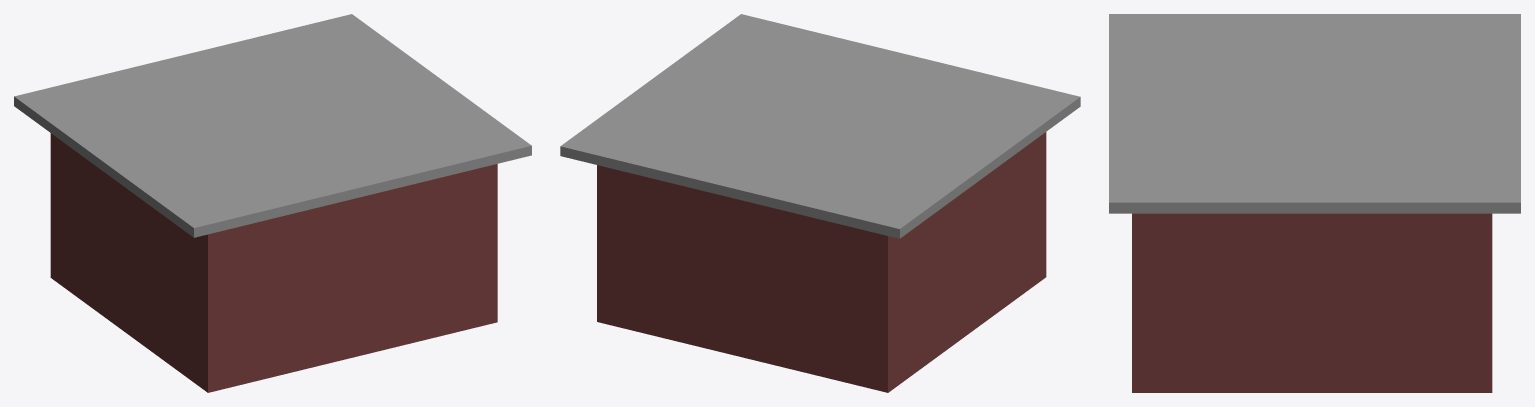
Rendered from House three.fbx.
3 renders of one model, left to right at view 1: azimuth 30°, elevation 25°; view 2: azimuth 150°, elevation 25°; view 3: azimuth 270°, elevation 25°, orthographic. The views are drawn at different scales.
Parts seen in each view (by area): view 1: pCube3; view 2: pCube3; view 3: pCube3.
Boxes of the visible parts, <box> form: pCube3: <box>14,14,531,392</box>; pCube3: <box>560,14,1080,392</box>; pCube3: <box>1109,14,1520,392</box>.
Size of the model in its own units: 1.03 by 0.5175 by 0.9481.
